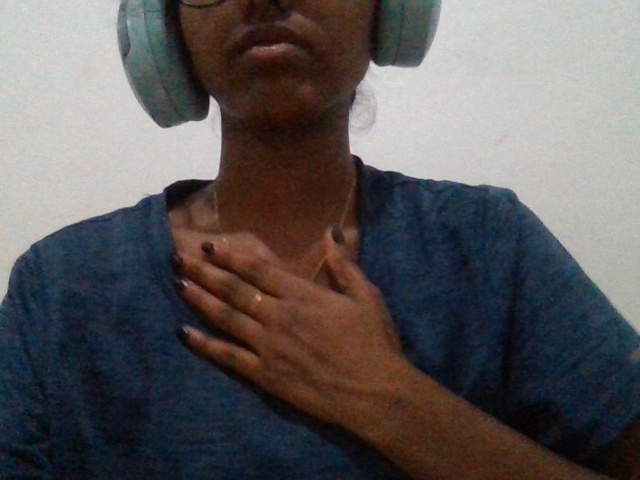Please: (144, 194, 460, 465)
